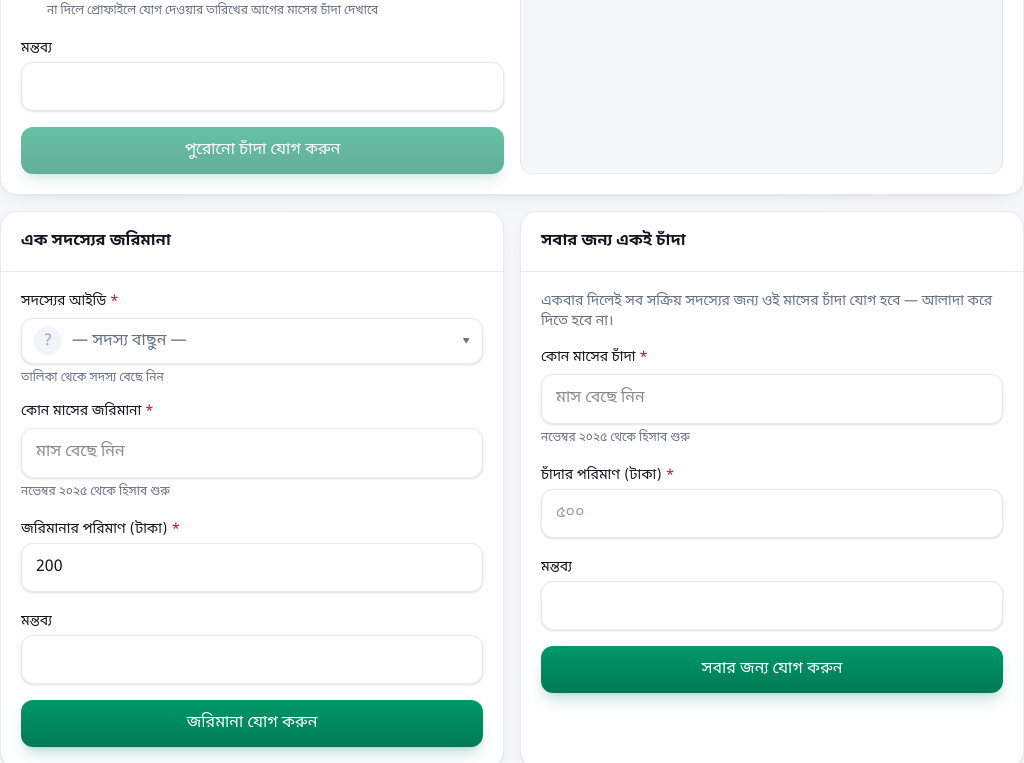
Test: historical import forms › will not submit a fine without a member
The width and height of the screenshot is (1024, 763).
(page scrolled)
Click the button "জরিমানা যোগ করুন".
click(252, 724)  # box [21,700,483,748]
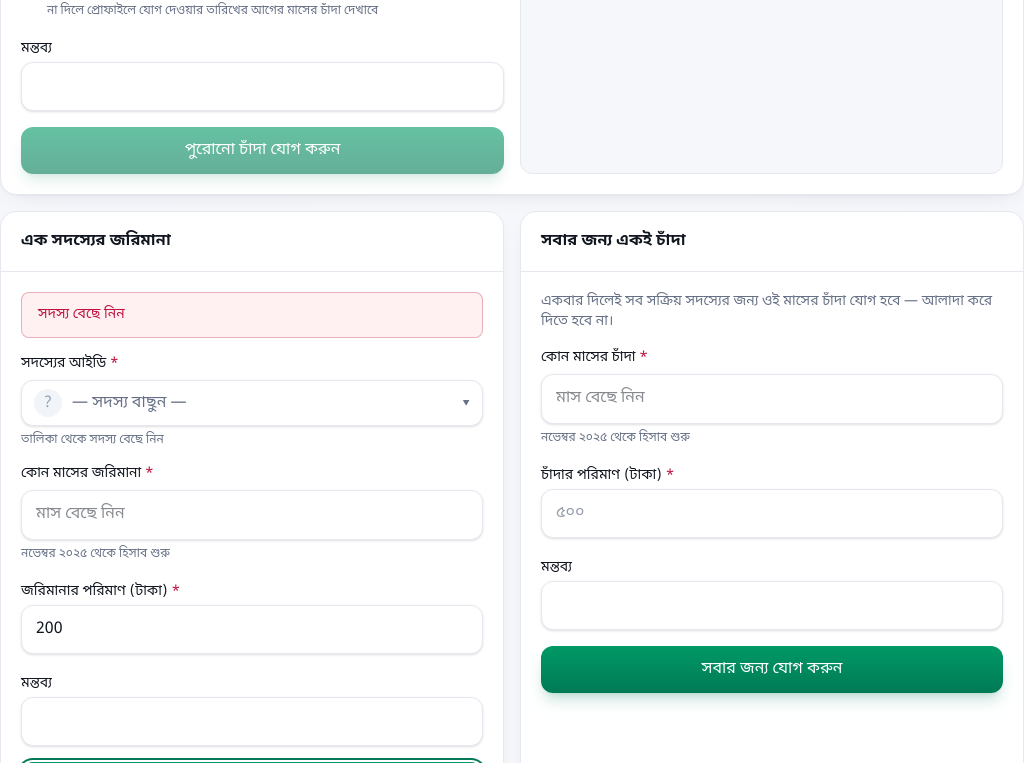
Expected: the text "সদস্য বেছে নিন" is shown, [38,305,125,324]
